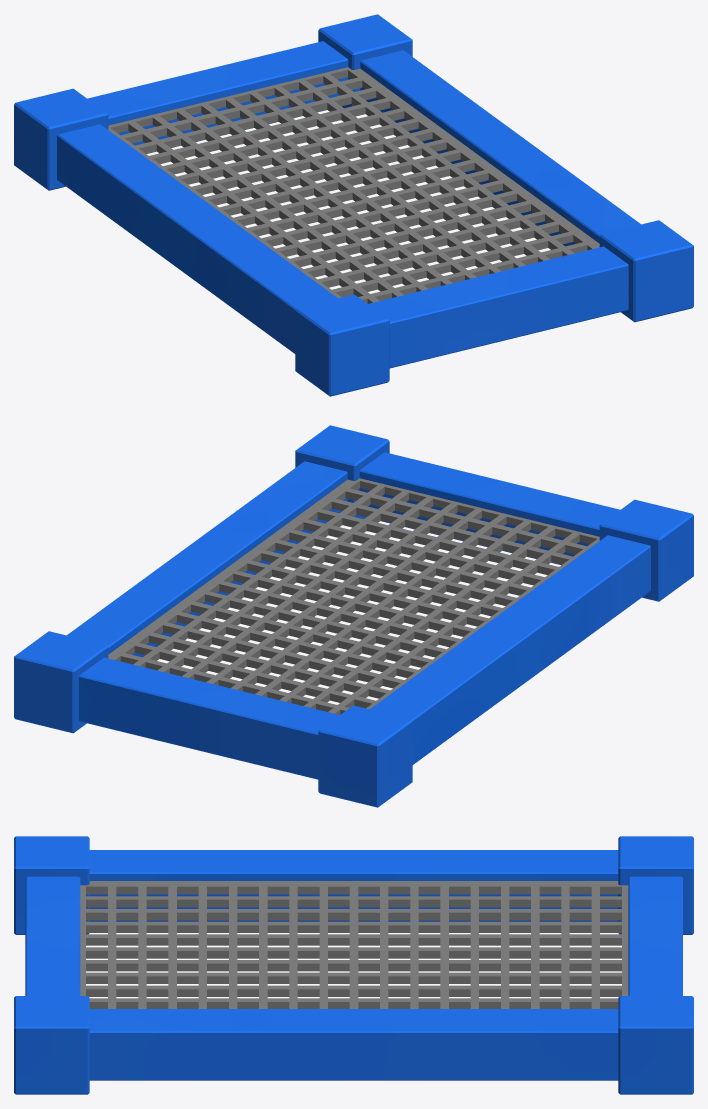
Rendered from BridgeOneSegmentBlue.fbx.
3 renders of one model, top to bottom at view 1: azimuth 30°, elevation 25°; view 2: azimuth 150°, elevation 25°; view 3: azimuth 270°, elevation 25°, orthographic. The views are drawn at different scales.
Parts seen in each view (by area): view 1: Platform, Grate; view 2: Platform, Grate; view 3: Platform, Grate.
Boxes of the visible parts, bbox=[...] form: Platform: bbox=[14, 14, 693, 396]; Grate: bbox=[108, 67, 599, 303]; Platform: bbox=[14, 425, 693, 807]; Grate: bbox=[108, 478, 599, 714]; Platform: bbox=[14, 836, 693, 1094]; Grate: bbox=[80, 881, 628, 1008].
Size of the model in its own units: 6 by 1 by 9.
